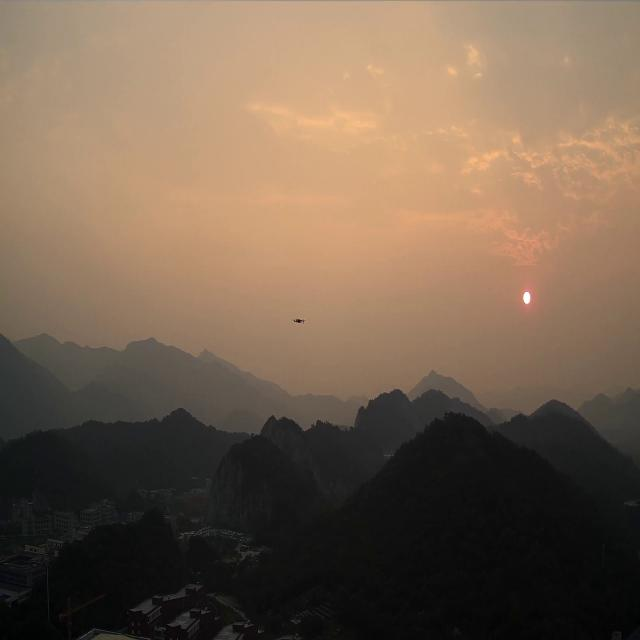UAV: (292, 317, 306, 324)
